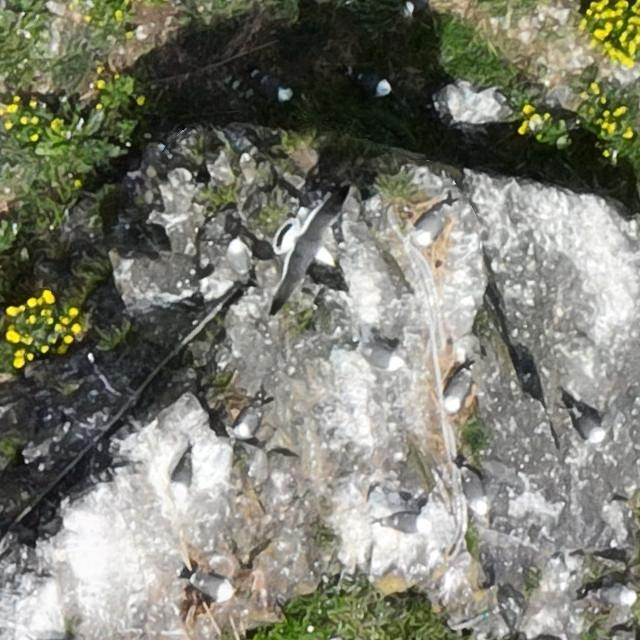F: (276, 199, 342, 295)
umineko: (414, 203, 453, 245), (464, 466, 489, 516), (357, 345, 402, 367), (573, 409, 603, 439), (352, 72, 390, 95), (384, 512, 427, 532), (257, 75, 290, 101), (591, 586, 636, 605), (192, 577, 230, 597), (446, 376, 468, 409), (235, 408, 259, 435), (228, 241, 248, 273), (172, 461, 188, 492), (405, 0, 430, 12)
